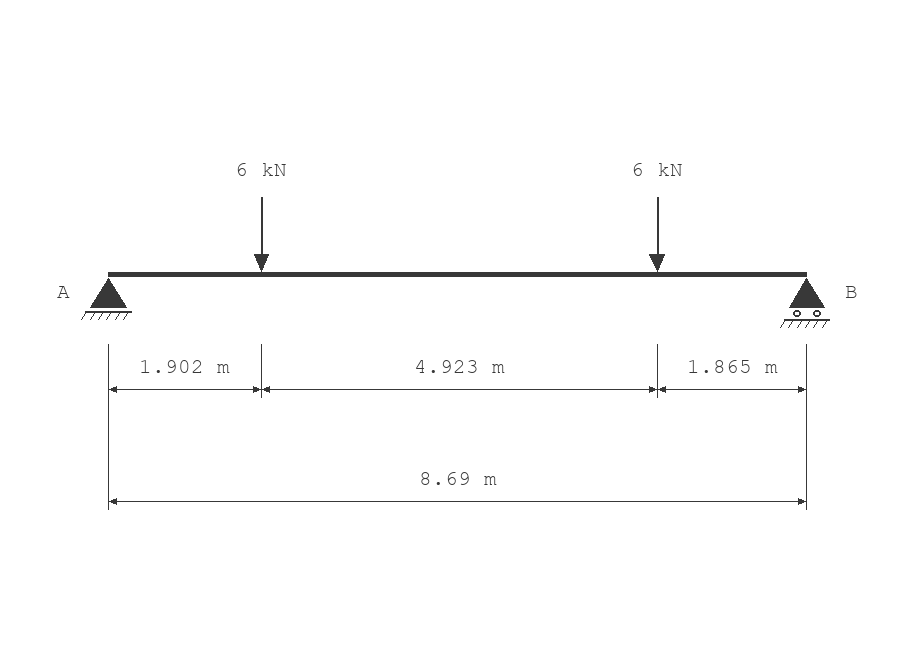pin_support: (81, 278, 132, 320)
point_load: (649, 197, 665, 272), (254, 197, 269, 272)
roller_support: (780, 278, 830, 328)
